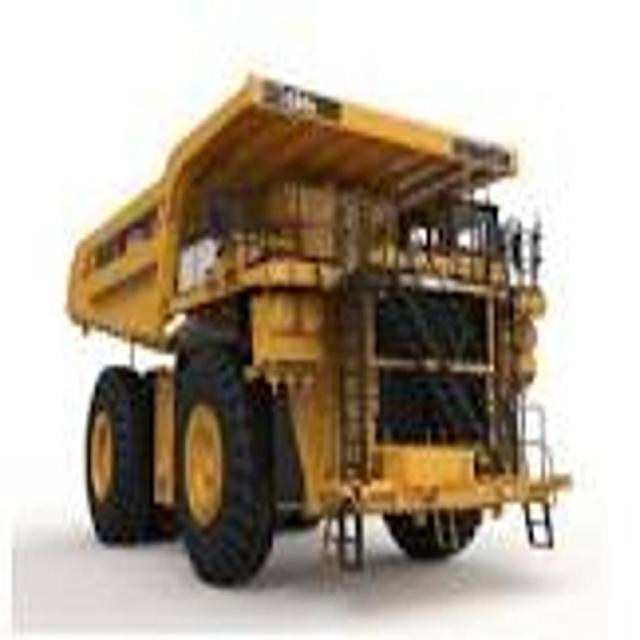dump_truck: (65, 66, 582, 588)
